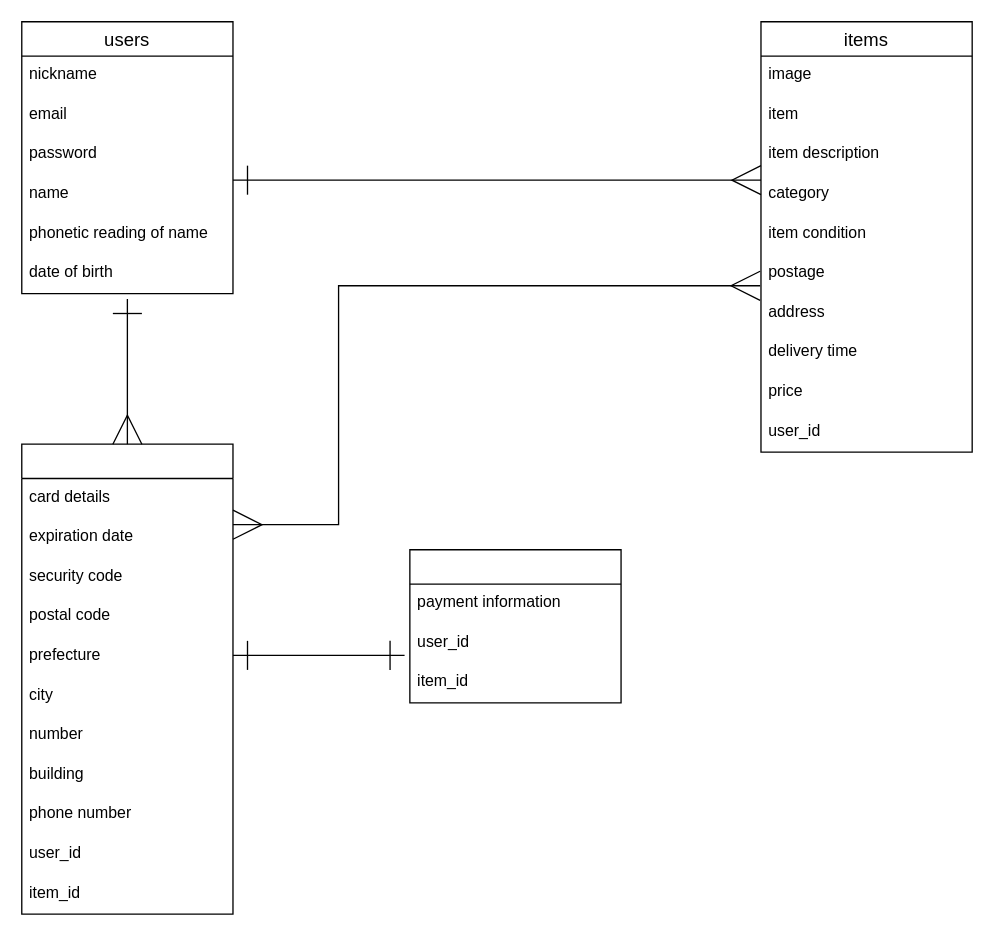
This 994x936 diagram has some shape labels left out. Each missing label, with the box of its shape:
delivery address: (409, 548, 621, 703)
purchase history: (20, 443, 233, 914)
